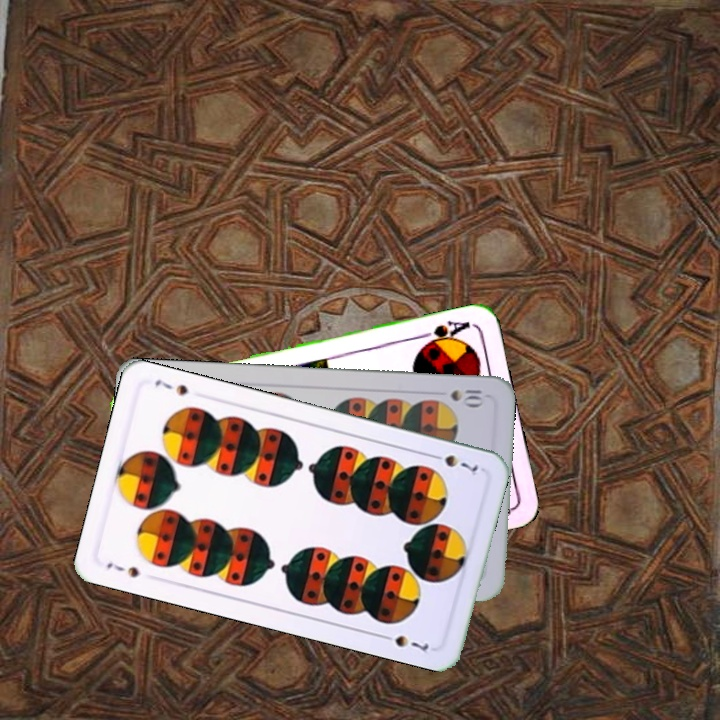S10: (447, 385, 487, 407)
S7: (426, 449, 480, 478), (102, 558, 143, 580)
SA: (416, 316, 473, 349)
